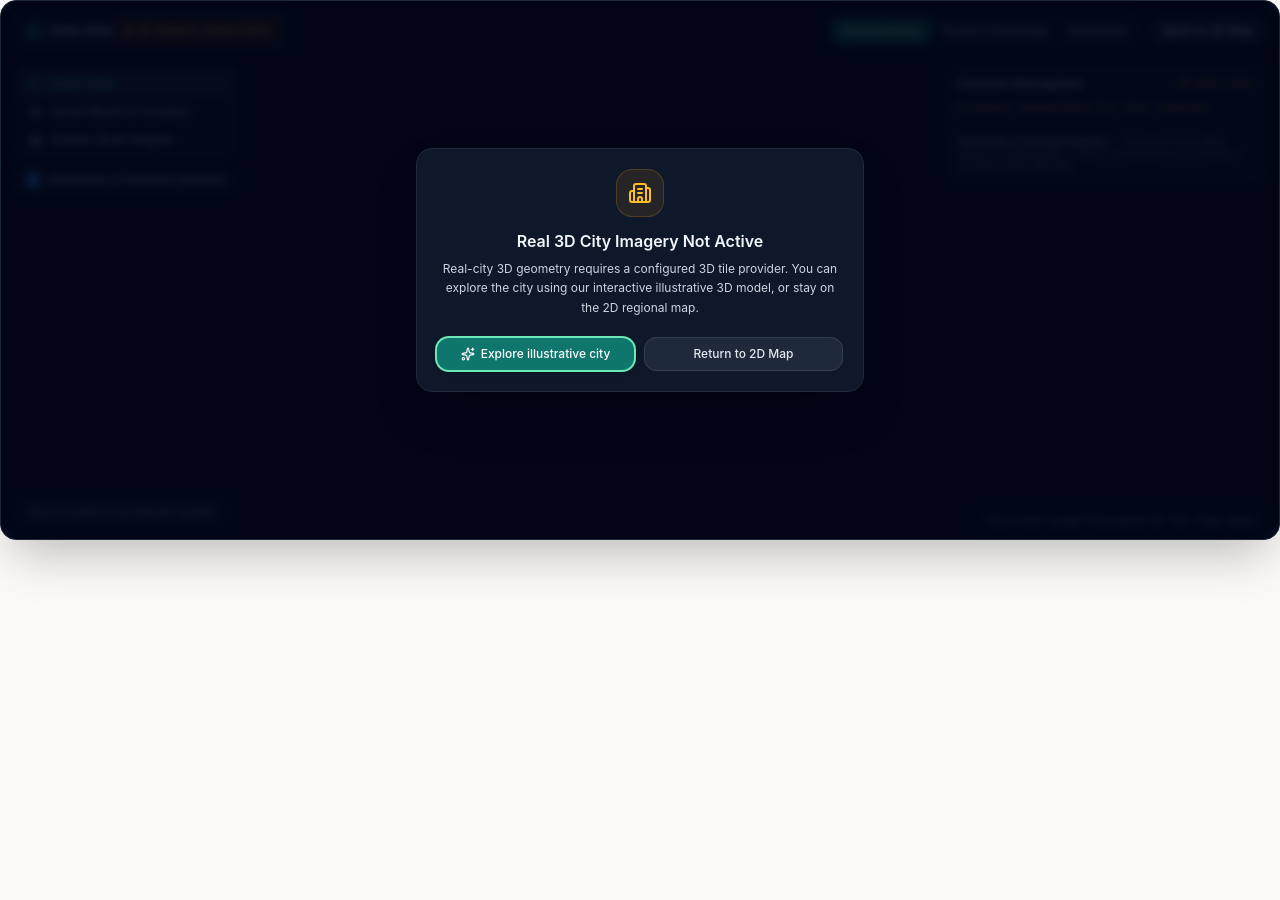
Test case: Immersive 3D City - Regression & Household Tests › Household UI: Clean copy, explicit choice, and forecast handling › makes 'Explore illustrative city' an explicit user choice
This screenshot has width=1280, height=900.
Click the button "Explore illustrative city". click: (536,354)
box: [437,338,634,370]
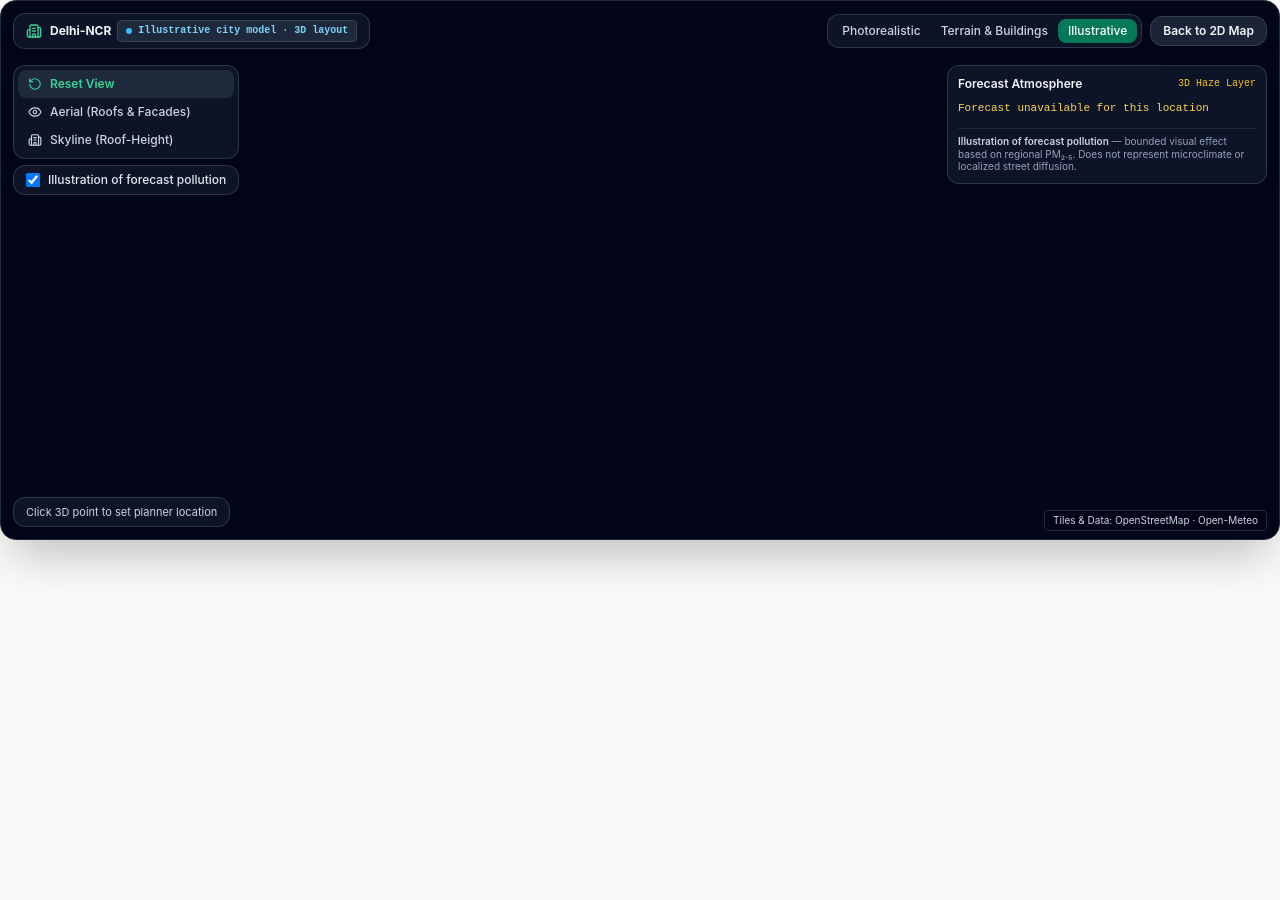
Check: the text "Illustrative city model · 3D layout" is shown, box [138,23,348,39]
